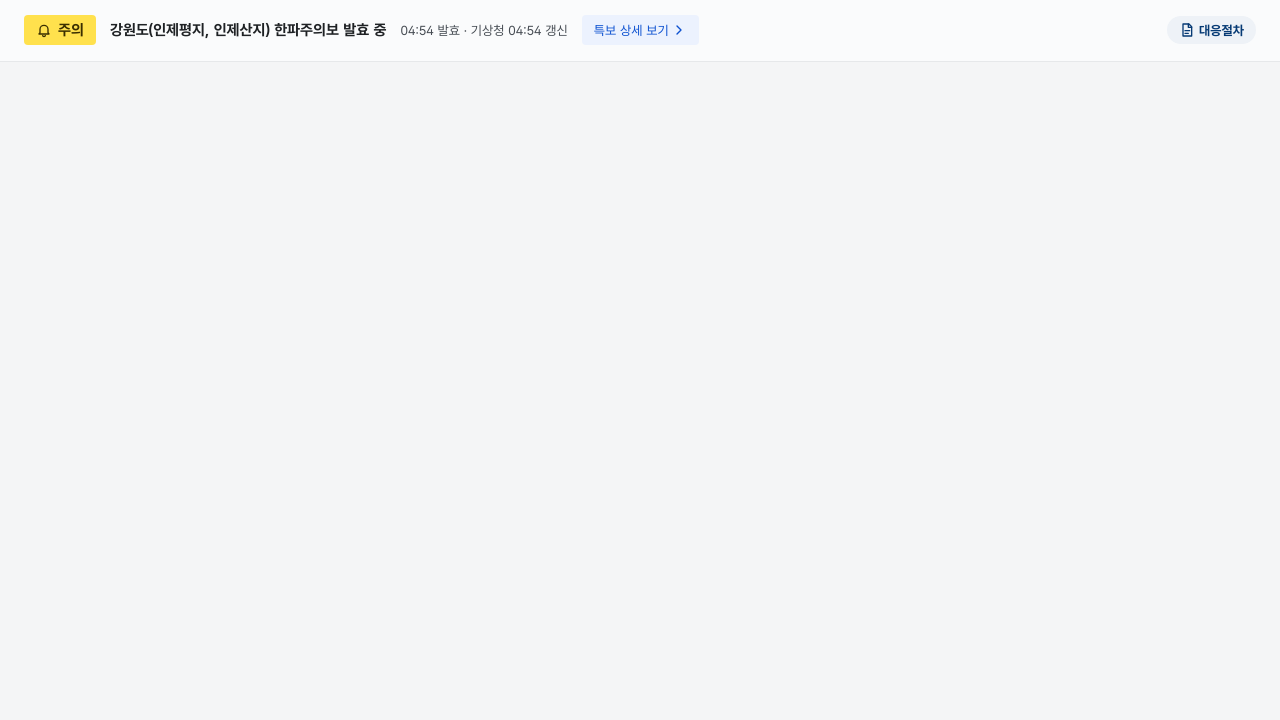
Test: 기상특보 상세 창 › 통보문 — 누르면 그때 본문을 가져와 칸 그대로(내용이 비면 그 사실을 적는다), 다시 접고 펴도 다시 묻지 않는다
Later steps or results of the test are not shown.
Click the button with class "wxmore" at (640, 30), box [582,15,699,45]
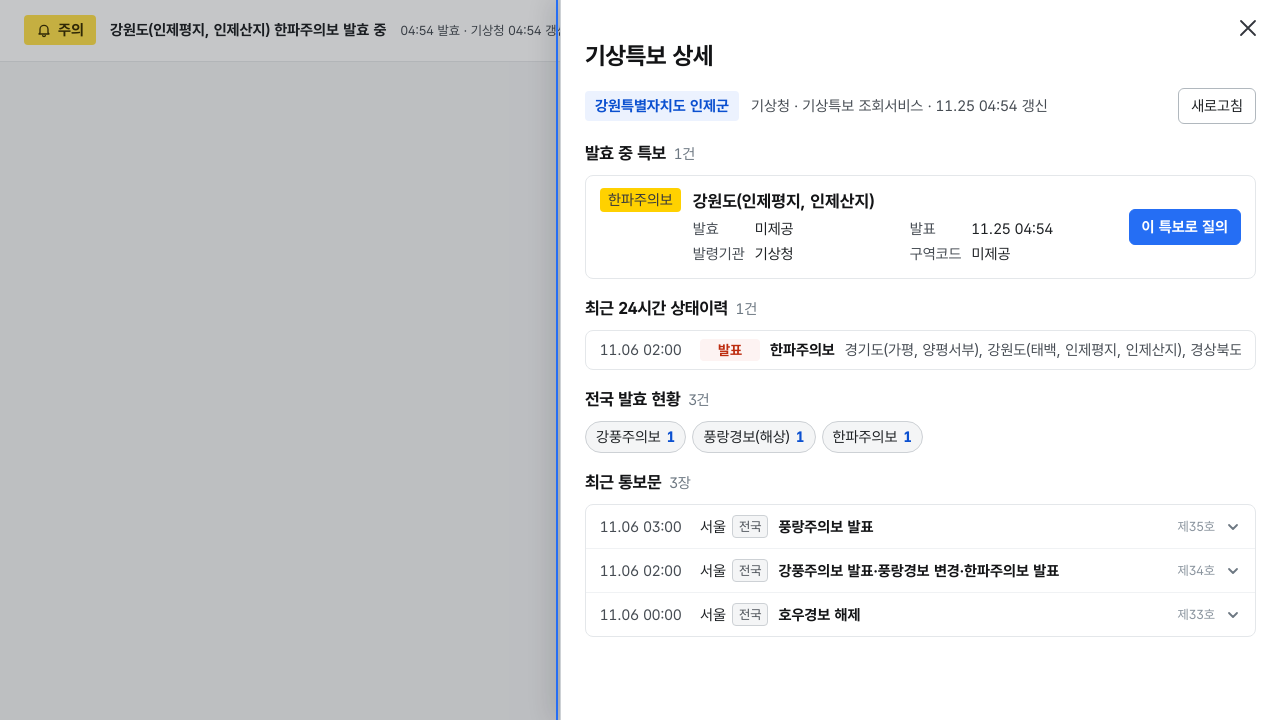
Click the button with class "wx-msg-head" that starts with "강풍주의보 발표·풍랑경보 변경·한파주의보 발표" at (920, 570), box [586,549,1255,592]
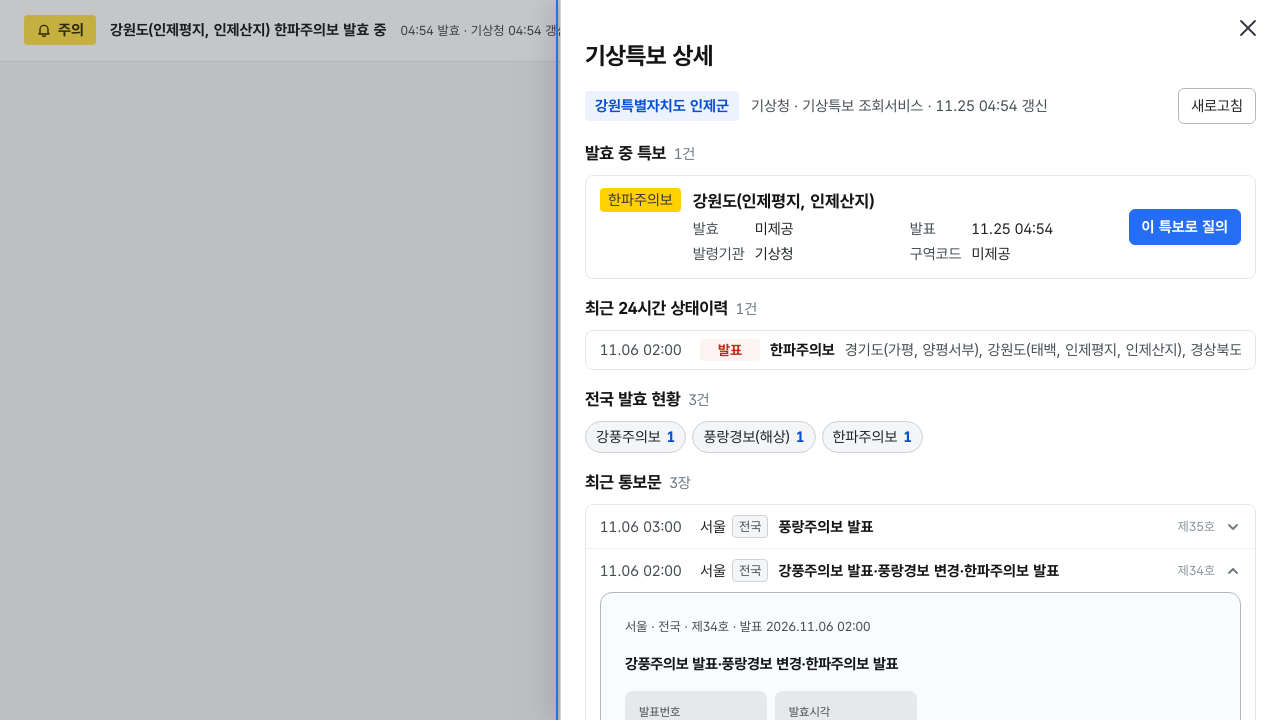
expect the heading with class "bc-title" reads "강풍주의보 발표·풍랑경보 변경·한파주의보 발표": met, box [625,655,898,673]
